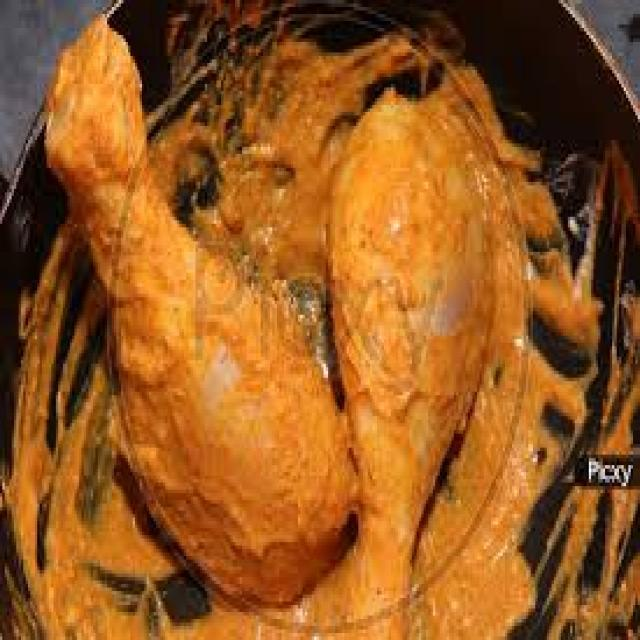leg: (53, 22, 344, 572), (337, 91, 482, 640)
